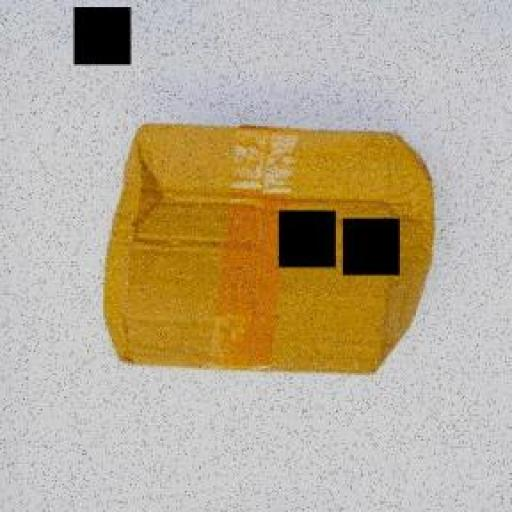box: (102, 122, 442, 372)
